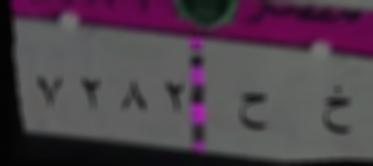2: (76, 66, 108, 123), (156, 78, 192, 120)
7: (34, 68, 66, 113)
7aa: (229, 81, 274, 142)
8: (114, 74, 152, 123)
khaa: (316, 80, 356, 145)
